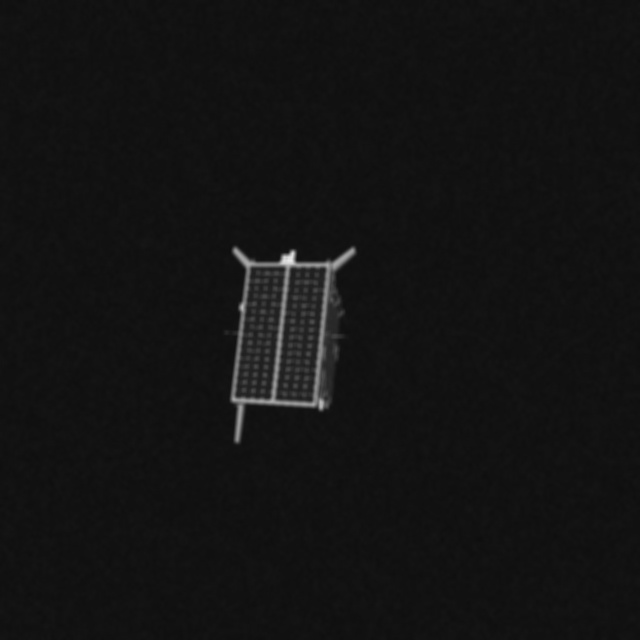satellite: (212, 232, 372, 448)
